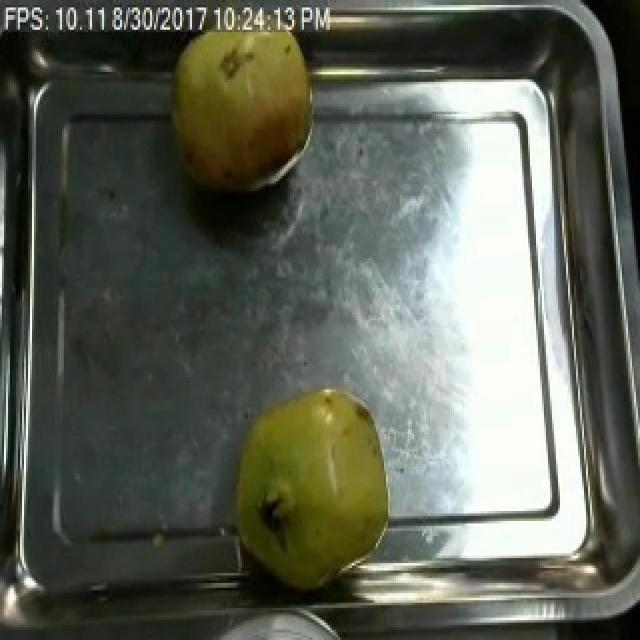fruit: (214, 367, 404, 598), (160, 10, 322, 201)
